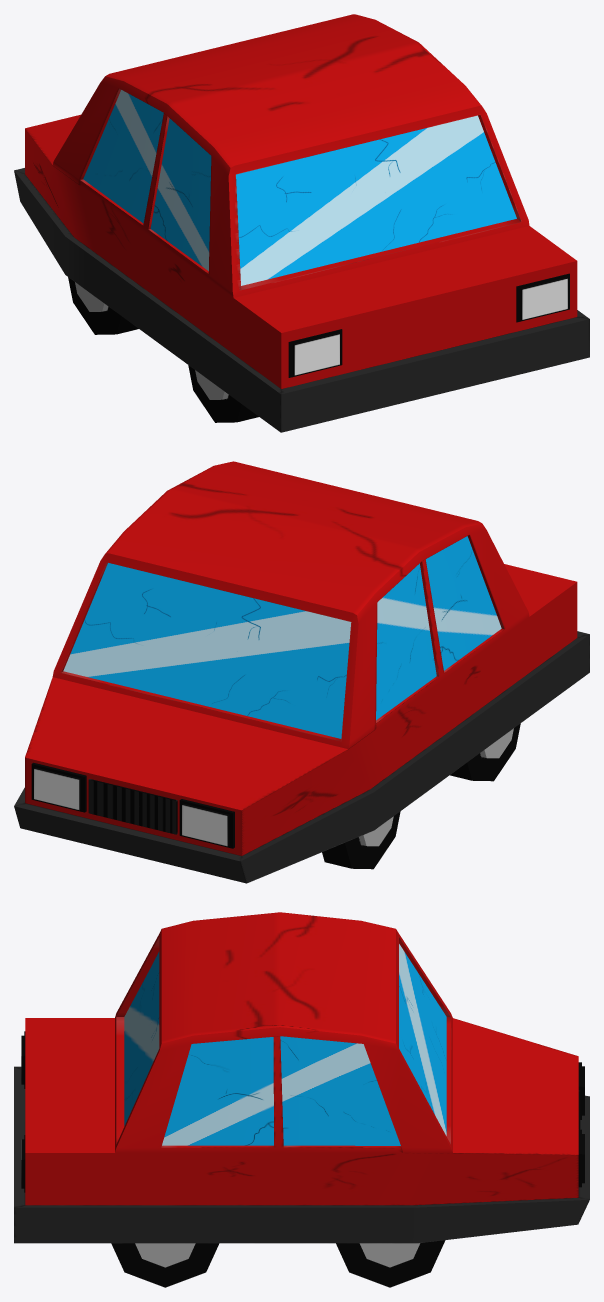
Rendered from redcar.fbx.
3 views of the same model, one above another, from view 1: azimuth 30°, elevation 25°; view 2: azimuth 150°, elevation 25°; view 3: azimuth 270°, elevation 25° (orthographic). The views are drawn at different scales.
Parts seen in each view (by area): view 1: polySurface4; view 2: polySurface4; view 3: polySurface4.
Boxes of the visible parts, x1,y1,x2,y2 form: polySurface4: [14, 14, 589, 432]; polySurface4: [14, 461, 589, 883]; polySurface4: [14, 912, 589, 1287].
Bounding box in the file's own units: 5.41 × 4.55 × 9.35.
Materials: 1 (1 with a texture image).
